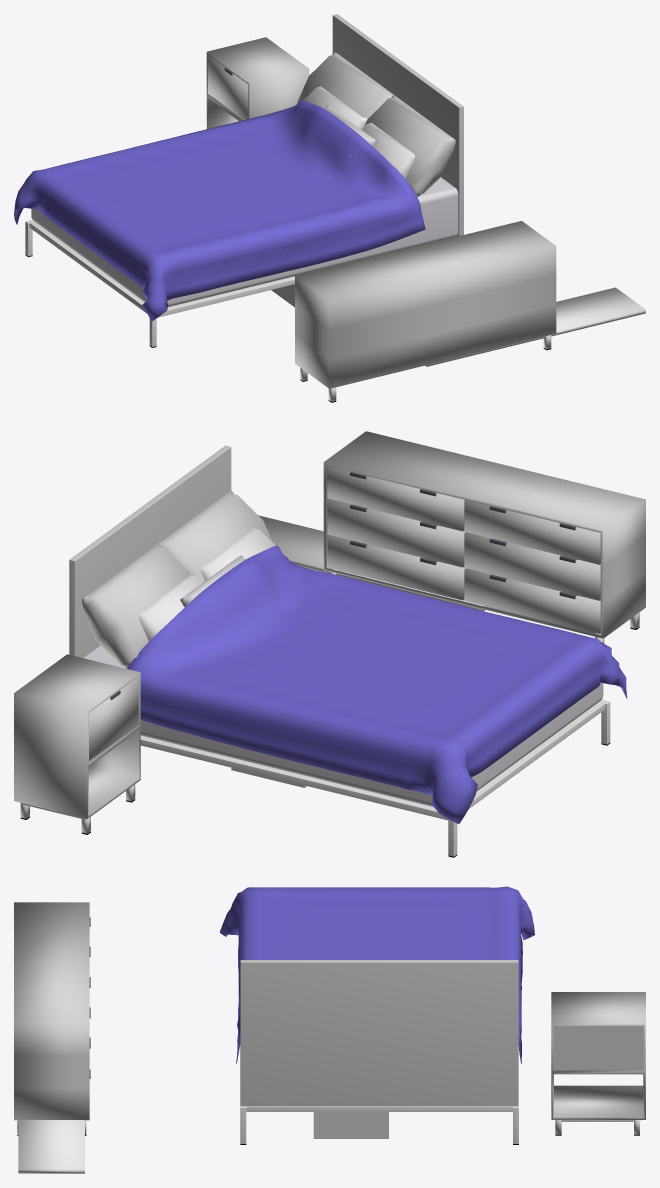
The model's file is bed.dae.
3 renders of one model, top to bottom at view 1: azimuth 30°, elevation 25°; view 2: azimuth 150°, elevation 25°; view 3: azimuth 270°, elevation 25°, orthographic. The views are drawn at different scales.
Visible parts, largest first — view 1: Ebene, W_rfel_4, W_rfel, Batdrasse, W_rfel_2_6, W_rfel_2_4, W_rfel_2_5, W_rfel_1_6, W_rfel_1_3_3, W_rfel_3, W_rfel_2_2, W_rfel_2_3; view 2: Ebene, W_rfel_5, W_rfel_4, W_rfel_2_6, W_rfel, Batdrasse, W_rfel_2_5, W_rfel_1_3_3, W_rfel_2_4, W_rfel_1_6, W_rfel_3, W_rfel_2_3 (+1 smaller); view 3: W_rfel, Ebene, W_rfel_4, W_rfel_2_6, W_rfel_1_6, Cube, W_rfel_1_3_3.
Part boxes in pixels (<box>): Ebene: <box>14,99,425,321</box>; W_rfel_4: <box>295,221,556,388</box>; W_rfel: <box>332,14,463,236</box>; Batdrasse: <box>31,177,458,306</box>; W_rfel_2_6: <box>206,37,309,128</box>; W_rfel_2_4: <box>364,95,455,196</box>; W_rfel_2_5: <box>297,52,394,118</box>; W_rfel_1_6: <box>425,287,645,366</box>; W_rfel_1_3_3: <box>27,220,294,317</box>; W_rfel_3: <box>208,55,248,119</box>; W_rfel_2_2: <box>361,122,415,178</box>; W_rfel_2_3: <box>304,86,367,129</box>; Ebene: <box>127,545,627,824</box>; W_rfel_5: <box>327,466,600,633</box>; W_rfel_4: <box>323,431,645,638</box>; W_rfel_2_6: <box>14,654,140,818</box>; W_rfel: <box>69,445,231,657</box>; Batdrasse: <box>83,645,603,806</box>; W_rfel_2_5: <box>82,543,190,668</box>; W_rfel_1_3_3: <box>140,699,607,820</box>; W_rfel_2_4: <box>158,490,272,582</box>; W_rfel_1_6: <box>258,515,484,611</box>; W_rfel_3: <box>89,677,138,759</box>; W_rfel_2_3: <box>138,572,203,640</box>; W_rfel: <box>240,960,518,1106</box>; Ebene: <box>219,886,534,1063</box>; W_rfel_4: <box>14,902,89,1120</box>; W_rfel_2_6: <box>551,992,645,1119</box>; W_rfel_1_6: <box>18,1120,84,1173</box>; Cube: <box>313,1112,388,1138</box>; W_rfel_1_3_3: <box>241,1106,517,1111</box>.
Bounding box in the file's own units: 13.64 × 16.72 × 6.28.
